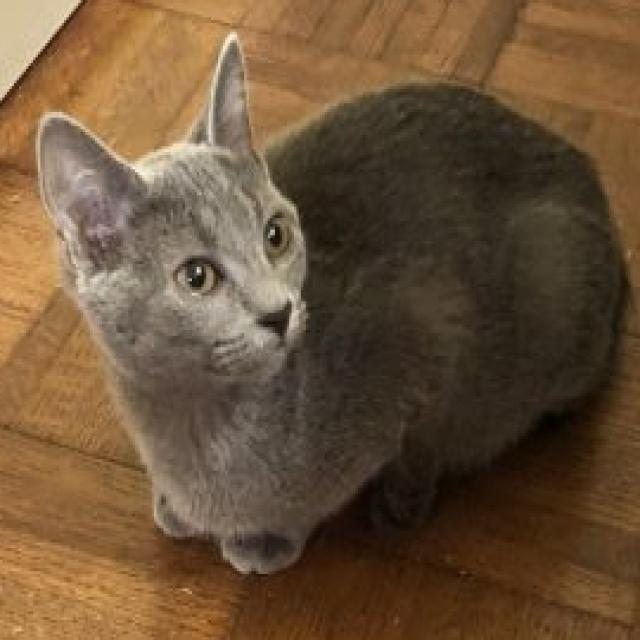Russian Blue: (33, 28, 629, 581)
